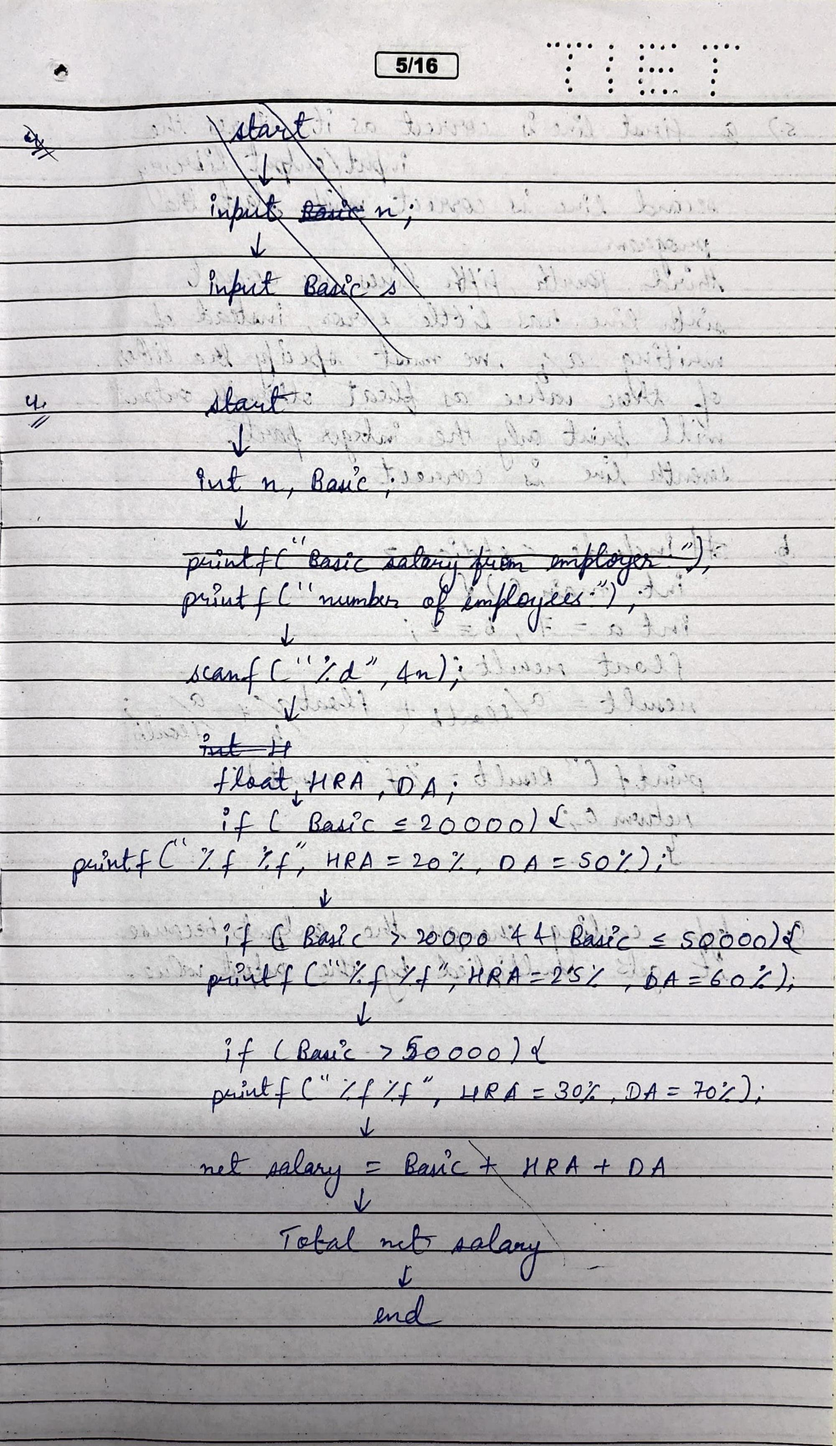cuttings: (196, 100, 428, 368), (179, 531, 721, 589), (198, 730, 293, 760), (20, 128, 58, 161)
